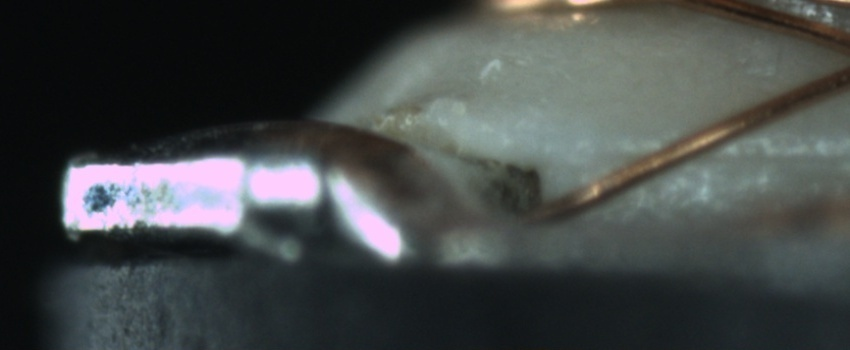CL: (835, 30, 850, 84)
DL: (609, 123, 850, 187)
